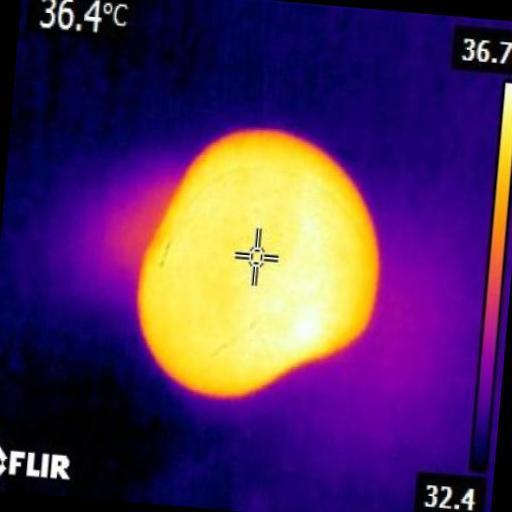alphanso: (138, 131, 379, 397)
